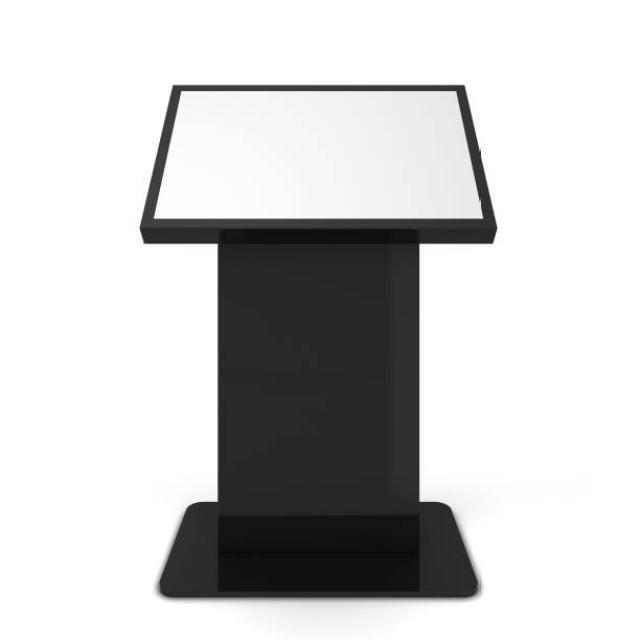table: (138, 82, 497, 598)
